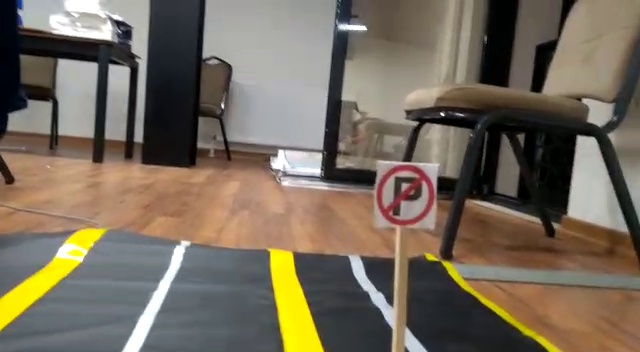park_yapilmaz: (373, 157, 443, 233)
